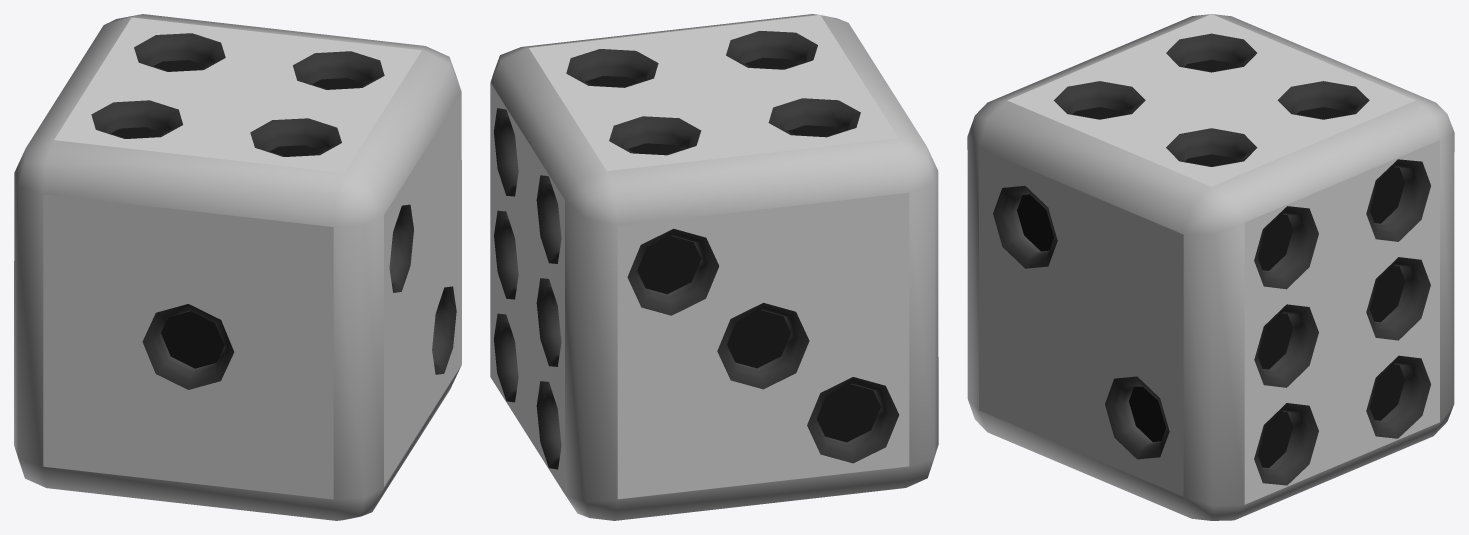
File: Dice_V1_00.fbx
The picture shows the model from 3 angles, left to right: view 1: azimuth 30°, elevation 25°; view 2: azimuth 150°, elevation 25°; view 3: azimuth 270°, elevation 25°; orthographic projection. The views are drawn at different scales.
Parts seen in each view (by area): view 1: Dice_V1_00; view 2: Dice_V1_00; view 3: Dice_V1_00.
Boxes of the visible parts, <box> form: Dice_V1_00: <box>14,14,461,520</box>; Dice_V1_00: <box>490,14,938,520</box>; Dice_V1_00: <box>967,14,1454,520</box>.
Size of the model in its own units: 49.83 by 37.76 by 49.85.
